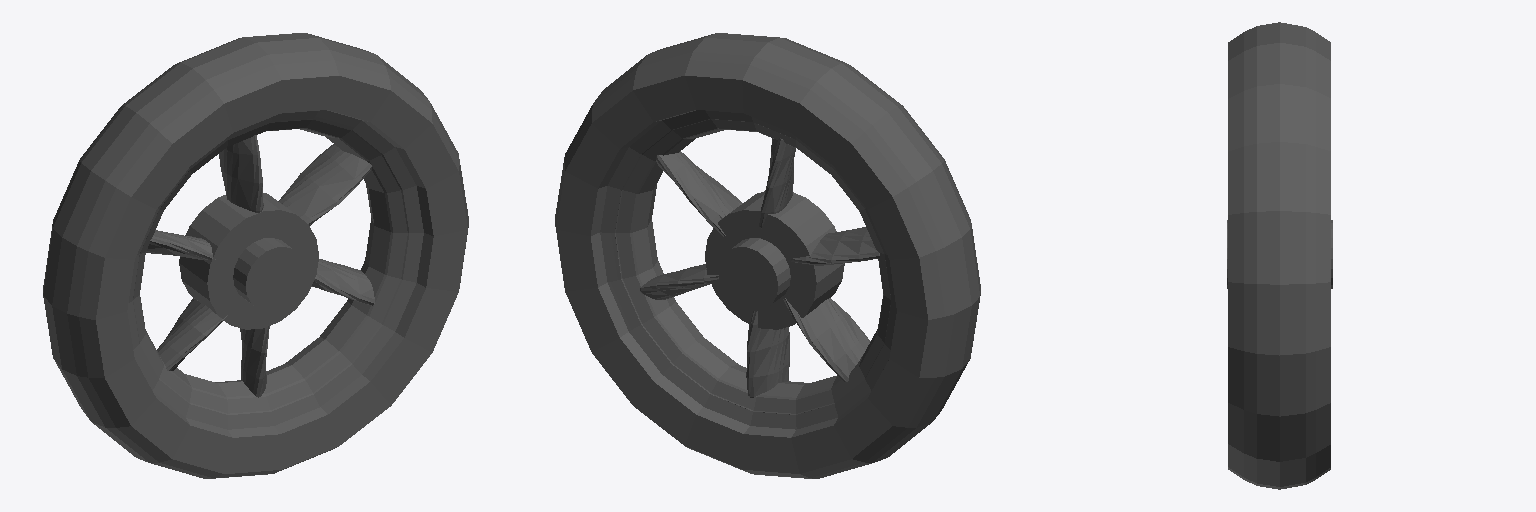
Rendered from frontwheel.obj.
3 renders of one model, left to right at view 1: azimuth 30°, elevation 25°; view 2: azimuth 150°, elevation 25°; view 3: azimuth 270°, elevation 25°, orthographic.
Parts seen in each view (by area): view 1: pasted__pasted__polySurface89_Untitled.006; view 2: pasted__pasted__polySurface89_Untitled.006; view 3: pasted__pasted__polySurface89_Untitled.006.
Boxes of the visible parts, x1,y1,x2,y2 form: pasted__pasted__polySurface89_Untitled.006: [43, 33, 468, 478]; pasted__pasted__polySurface89_Untitled.006: [555, 33, 980, 478]; pasted__pasted__polySurface89_Untitled.006: [1227, 22, 1332, 489].
Size of the model in its own units: 0.0696 by 0.0696 by 0.0158.